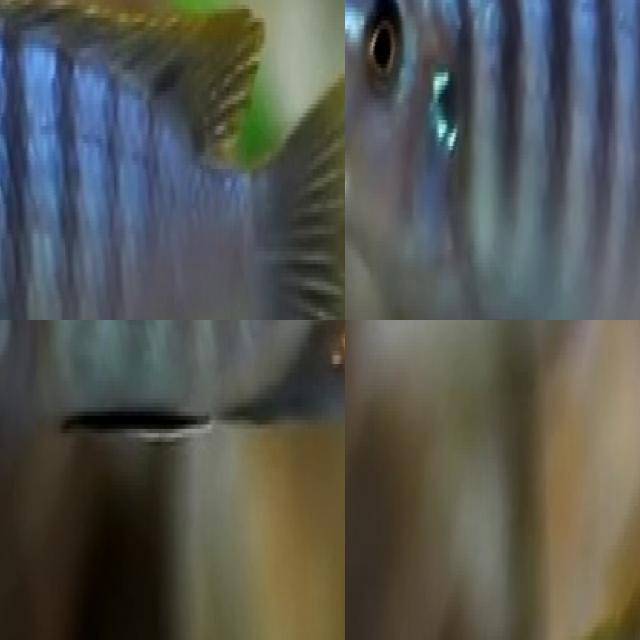fish: (0, 0, 345, 320), (345, 0, 640, 320), (0, 320, 345, 511)
